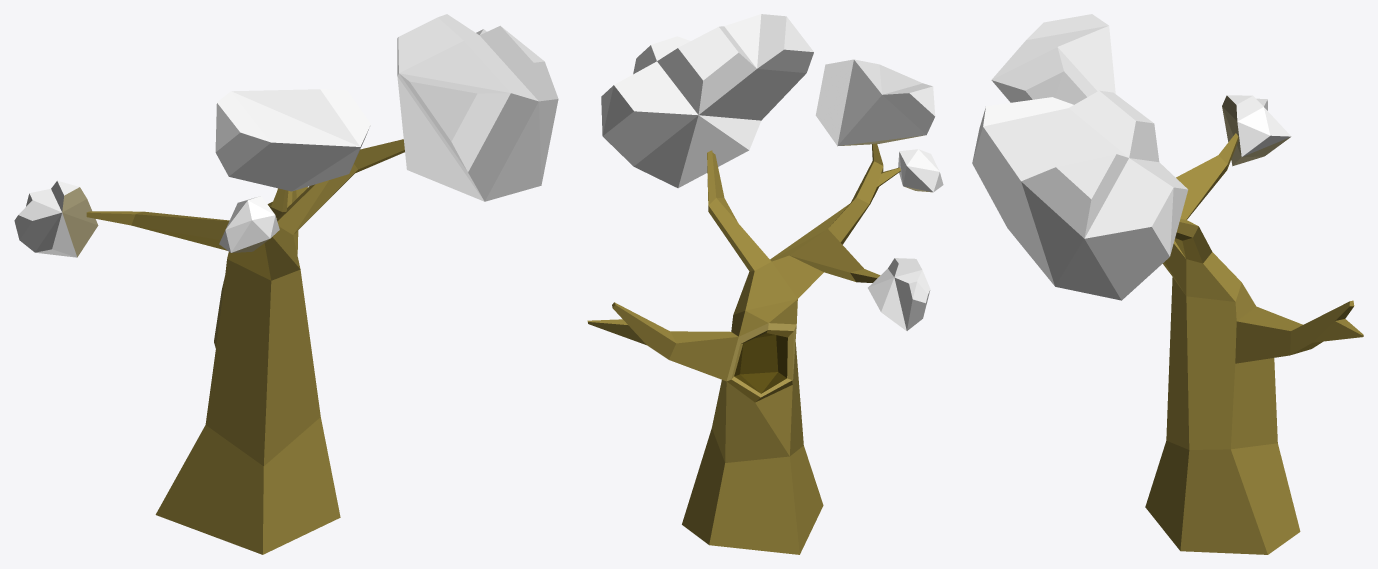
File: TreeWinter1_Alt3.fbx
3 views of the same model, side by side, from view 1: azimuth 30°, elevation 25°; view 2: azimuth 150°, elevation 25°; view 3: azimuth 270°, elevation 25° (orthographic). The views are drawn at different scales.
Visible parts, largest first — view 1: TreeWinter1_Alt3; view 2: TreeWinter1_Alt3; view 3: TreeWinter1_Alt3.
Part boxes in pixels (x1,y1,x2,y2): TreeWinter1_Alt3: (14, 14, 558, 554); TreeWinter1_Alt3: (587, 14, 943, 554); TreeWinter1_Alt3: (972, 14, 1363, 554).
Size of the model in its own units: 1.78 by 1.96 by 1.44.
